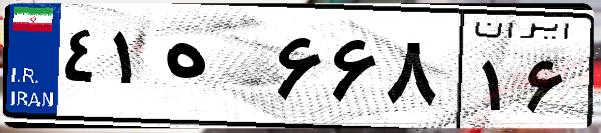1: (475, 38, 525, 113), (110, 28, 158, 98)
4: (57, 26, 110, 100)
6: (270, 28, 330, 110), (330, 28, 385, 110), (525, 38, 570, 115)
8: (385, 28, 445, 110)
ه: (158, 20, 270, 120)
